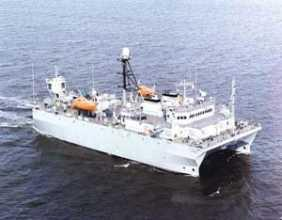otherboat: (27, 51, 263, 179)
